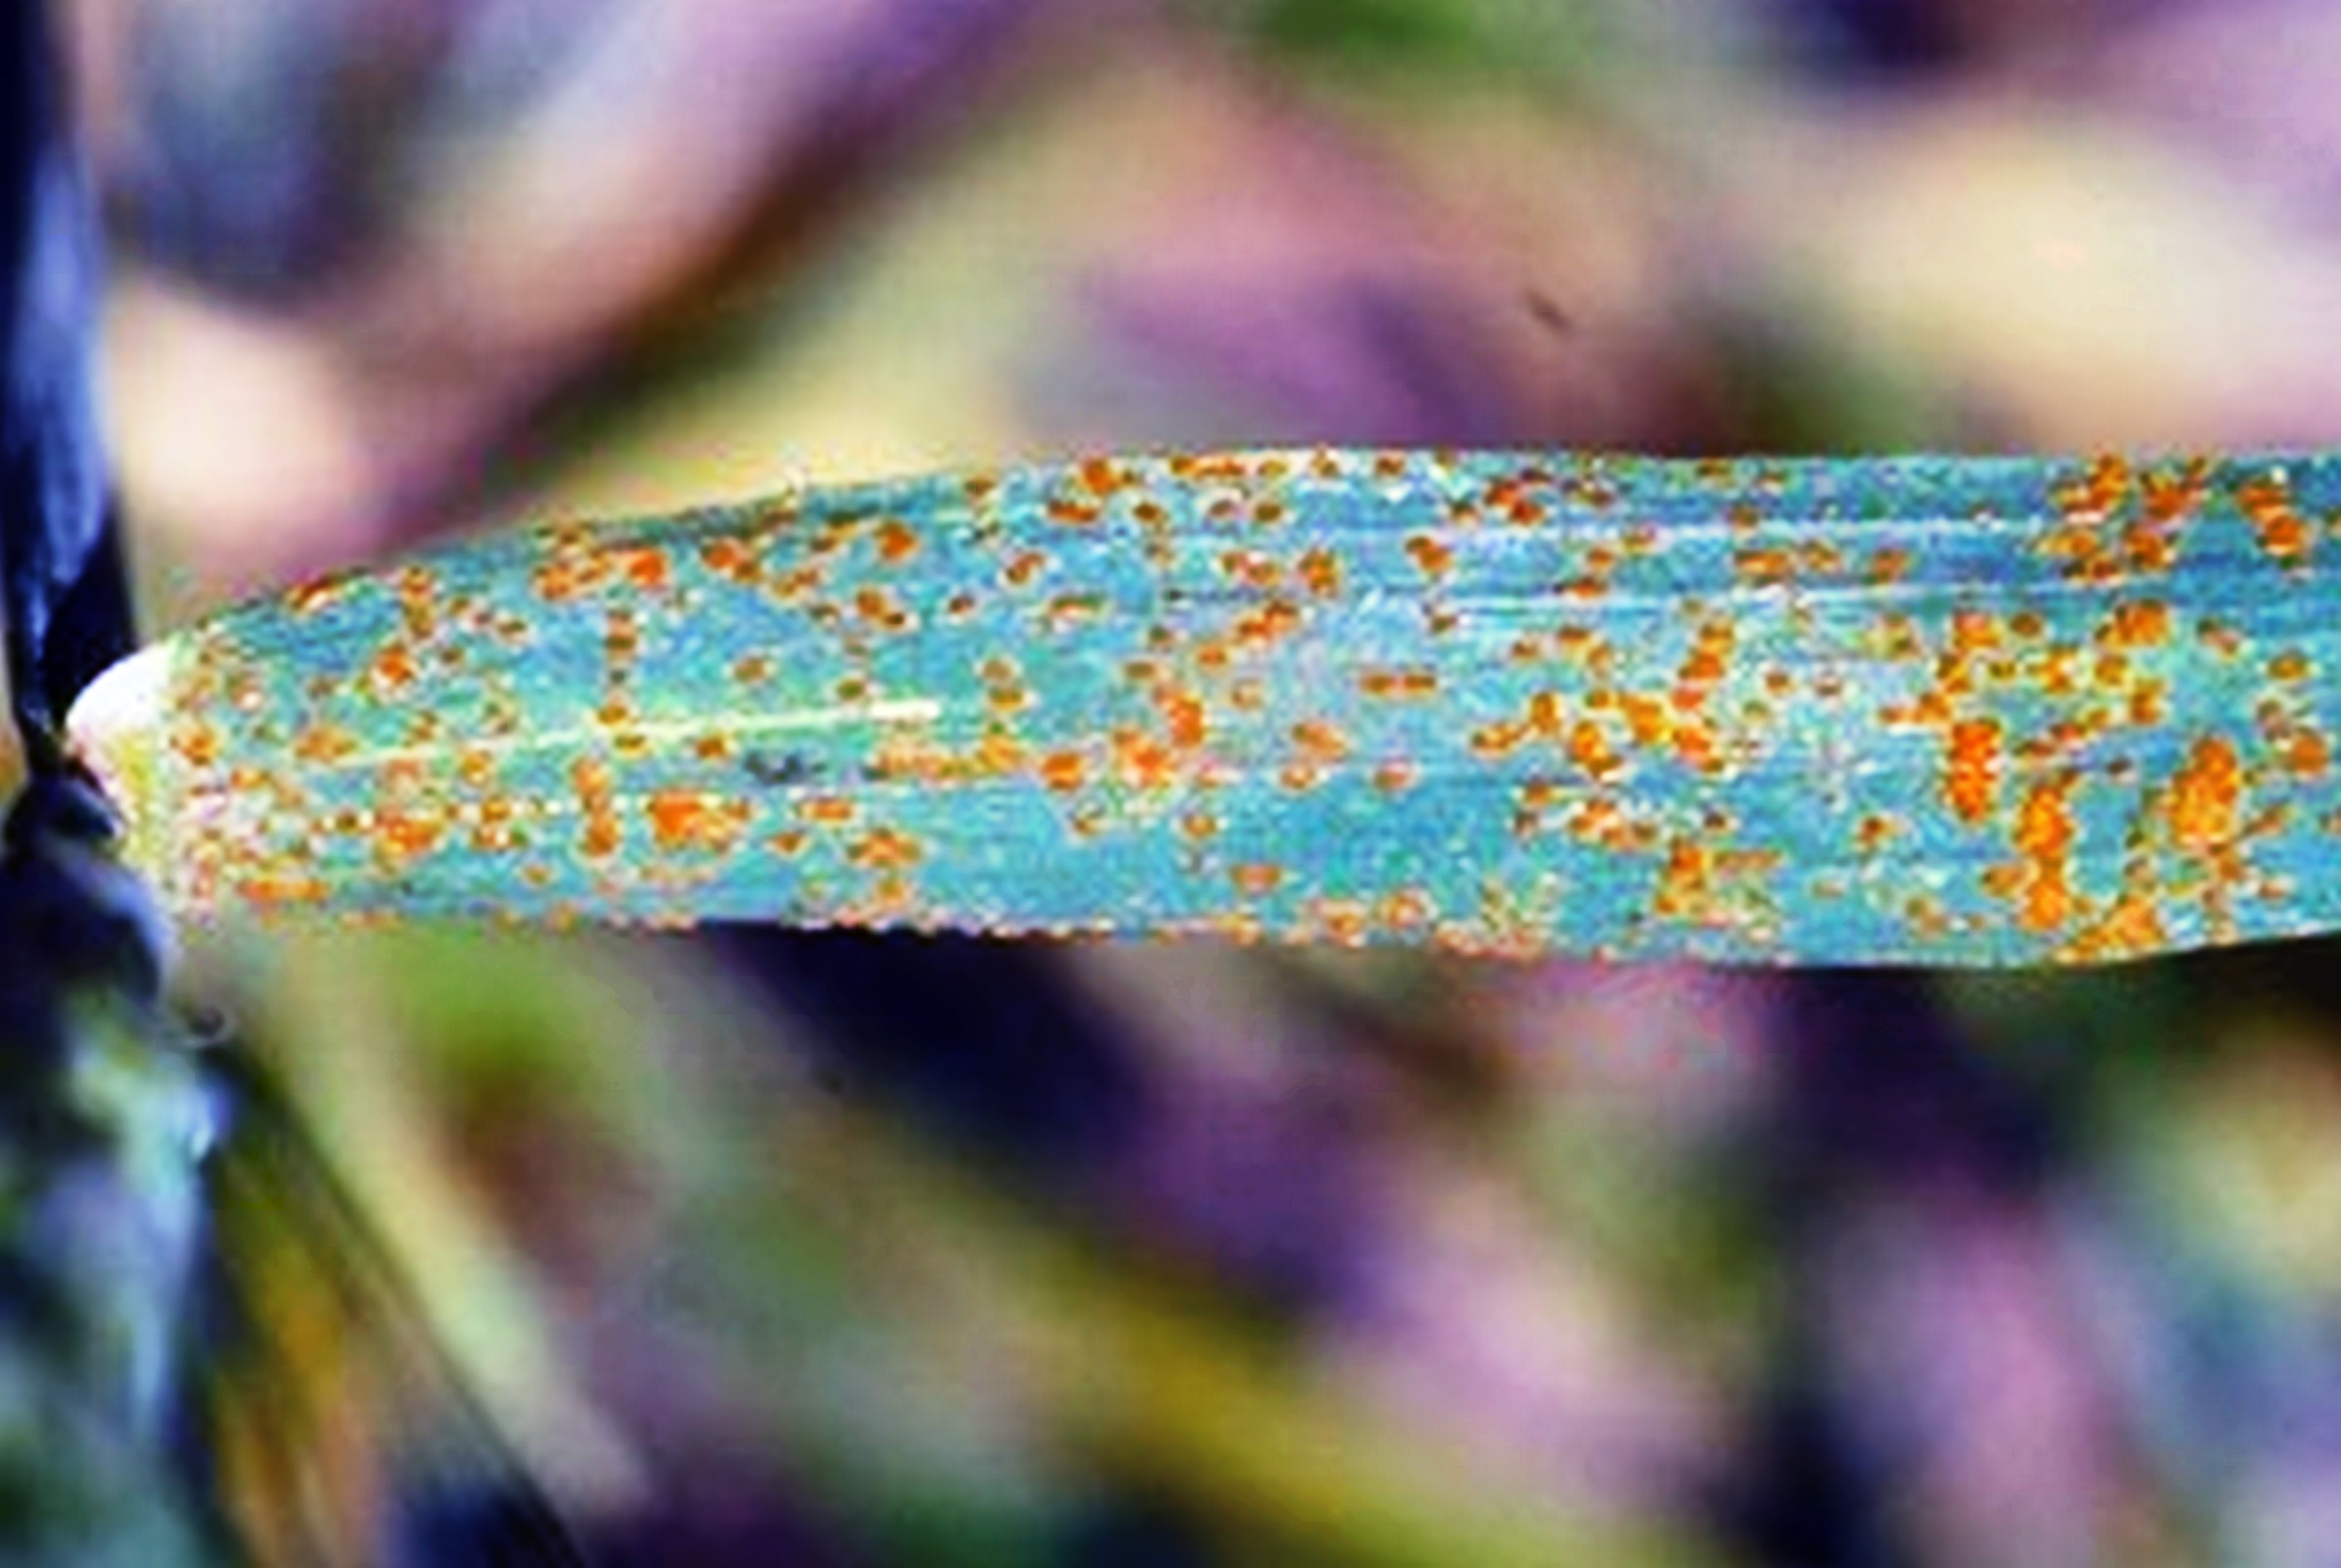Leaf Rust: (282, 418, 2285, 1032)
